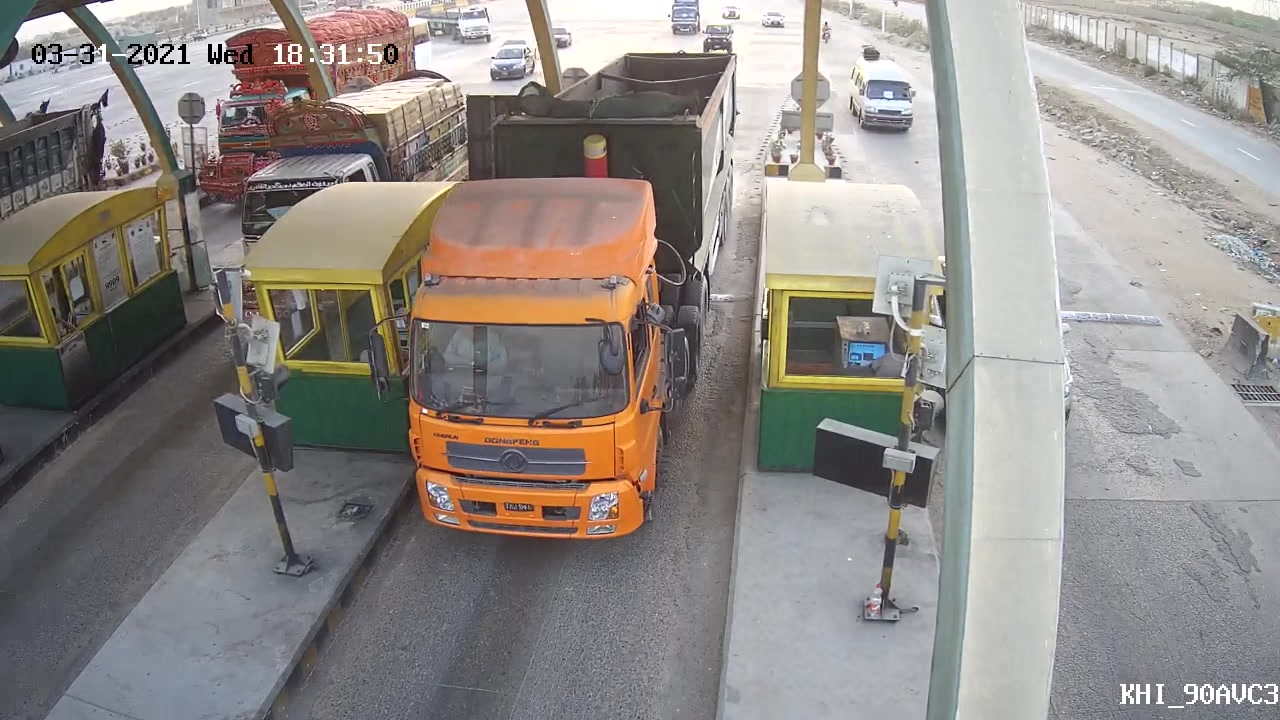F5: (360, 48, 743, 547)
